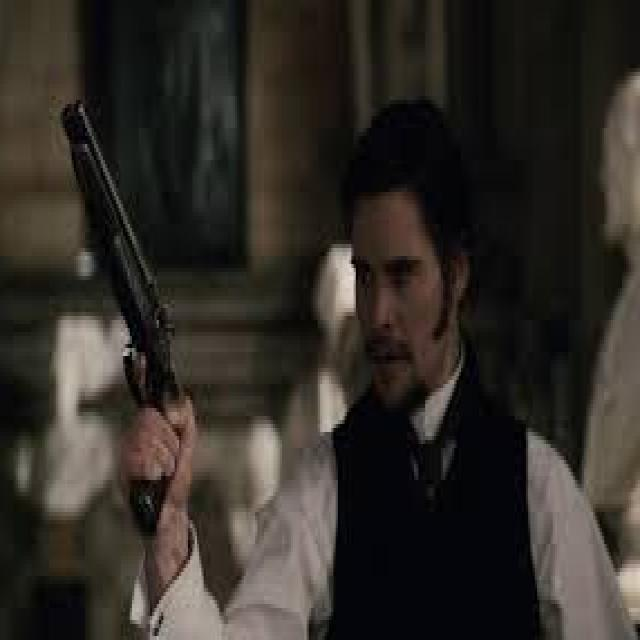gun: (55, 85, 195, 543)
